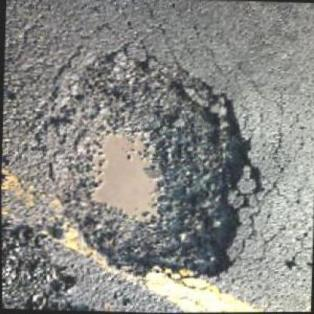Hueco: (29, 43, 271, 284)
